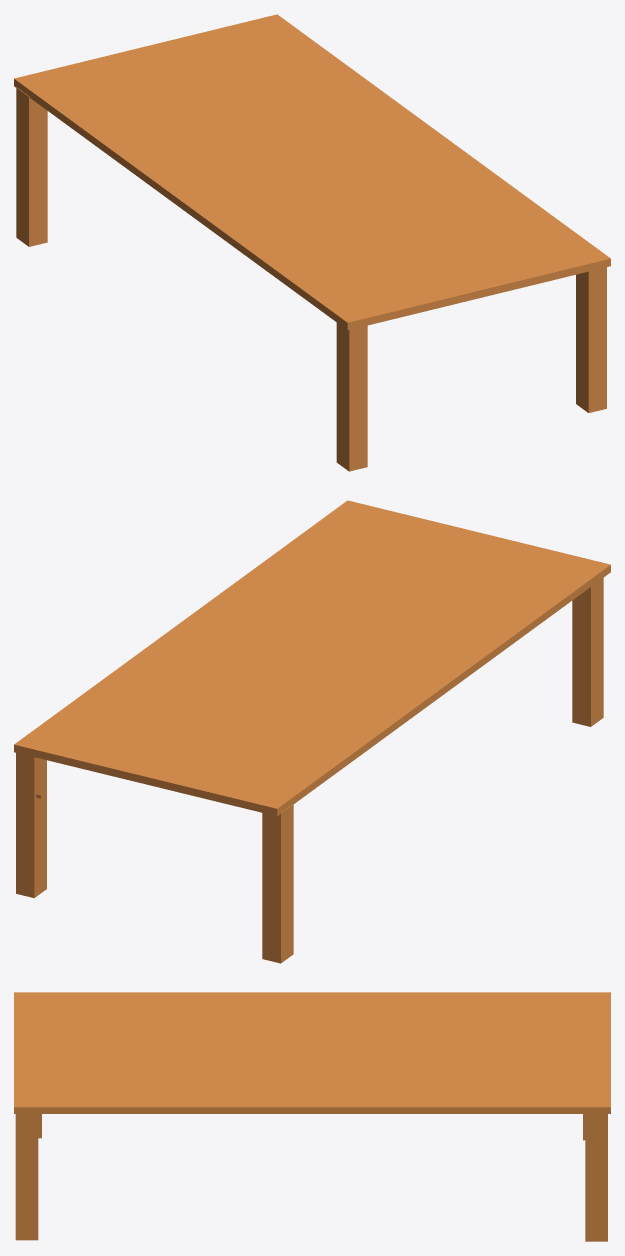
File: table.glb
The picture shows the model from 3 angles, top to bottom: view 1: azimuth 30°, elevation 25°; view 2: azimuth 150°, elevation 25°; view 3: azimuth 270°, elevation 25°; orthographic projection. The views are drawn at different scales.
Visible parts, largest first — view 1: Cube.002_Cube.017; view 2: Cube.002_Cube.017; view 3: Cube.002_Cube.017.
Part boxes in pixels (<box>): Cube.002_Cube.017: <box>14,14,610,471</box>; Cube.002_Cube.017: <box>14,500,610,963</box>; Cube.002_Cube.017: <box>14,992,610,1241</box>.
Size of the model in its own units: 8.24 by 4.68 by 18.03.
